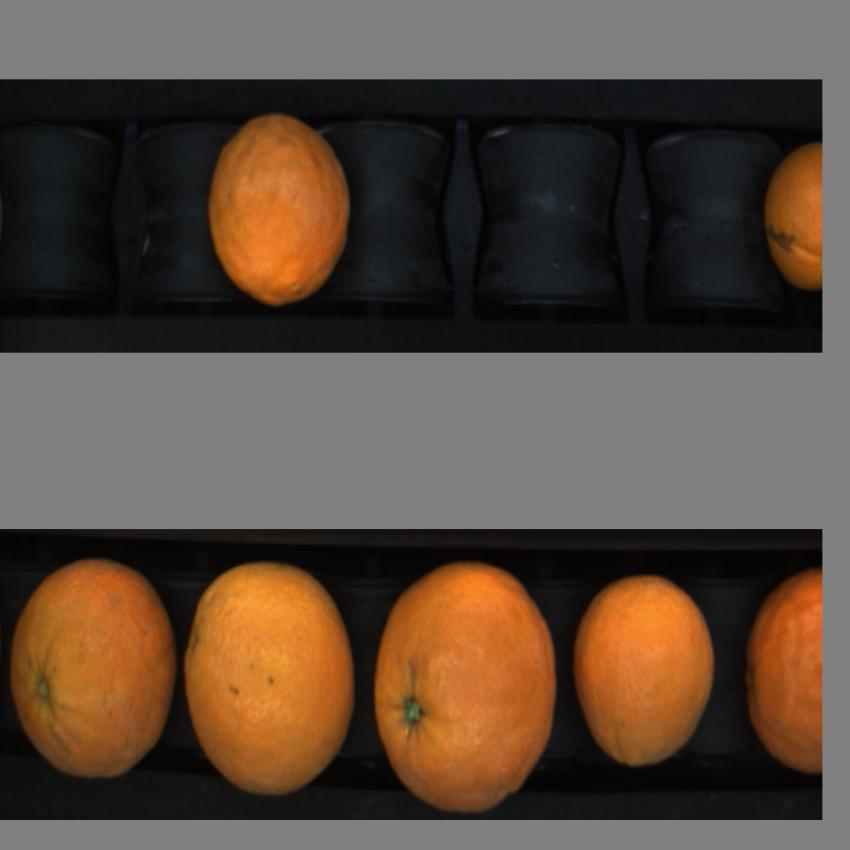Buen estado: (373, 564, 560, 814), (7, 557, 178, 798), (180, 565, 359, 795), (574, 577, 718, 771), (755, 137, 822, 301)
Mal estado: (200, 112, 355, 302), (742, 573, 824, 774)
